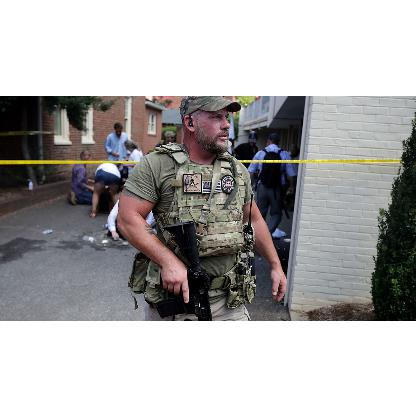gun: (154, 220, 214, 318)
